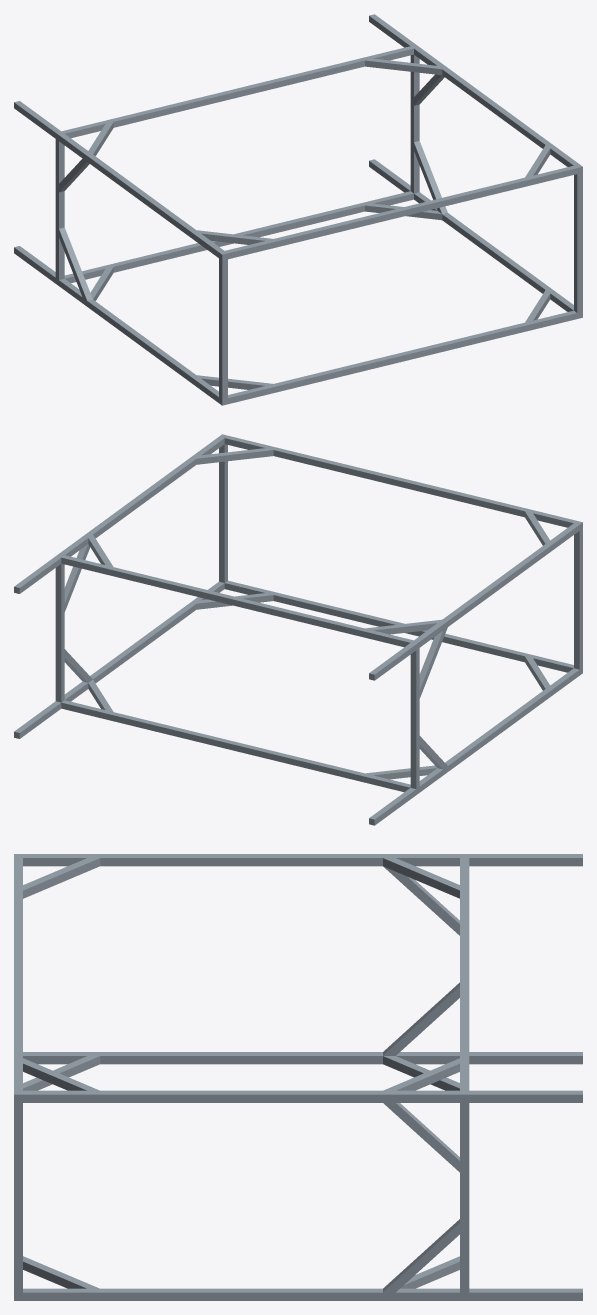
Rendered from frame.7a5f-ac4e-94ff-0444.bc9a-1d57-aebe-1979.dae.
3 renders of one model, top to bottom at view 1: azimuth 30°, elevation 25°; view 2: azimuth 150°, elevation 25°; view 3: azimuth 270°, elevation 25°, orthographic. The views are drawn at different scales.
Bounding box in the file's own units: 2.5 × 1 × 2.5.
